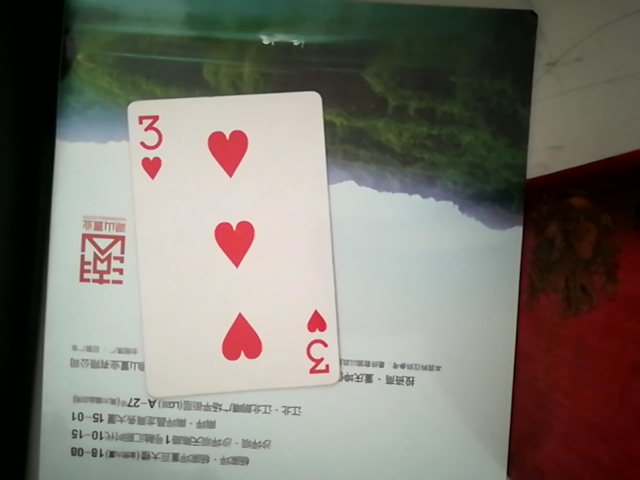hx 3: (125, 87, 349, 400)
